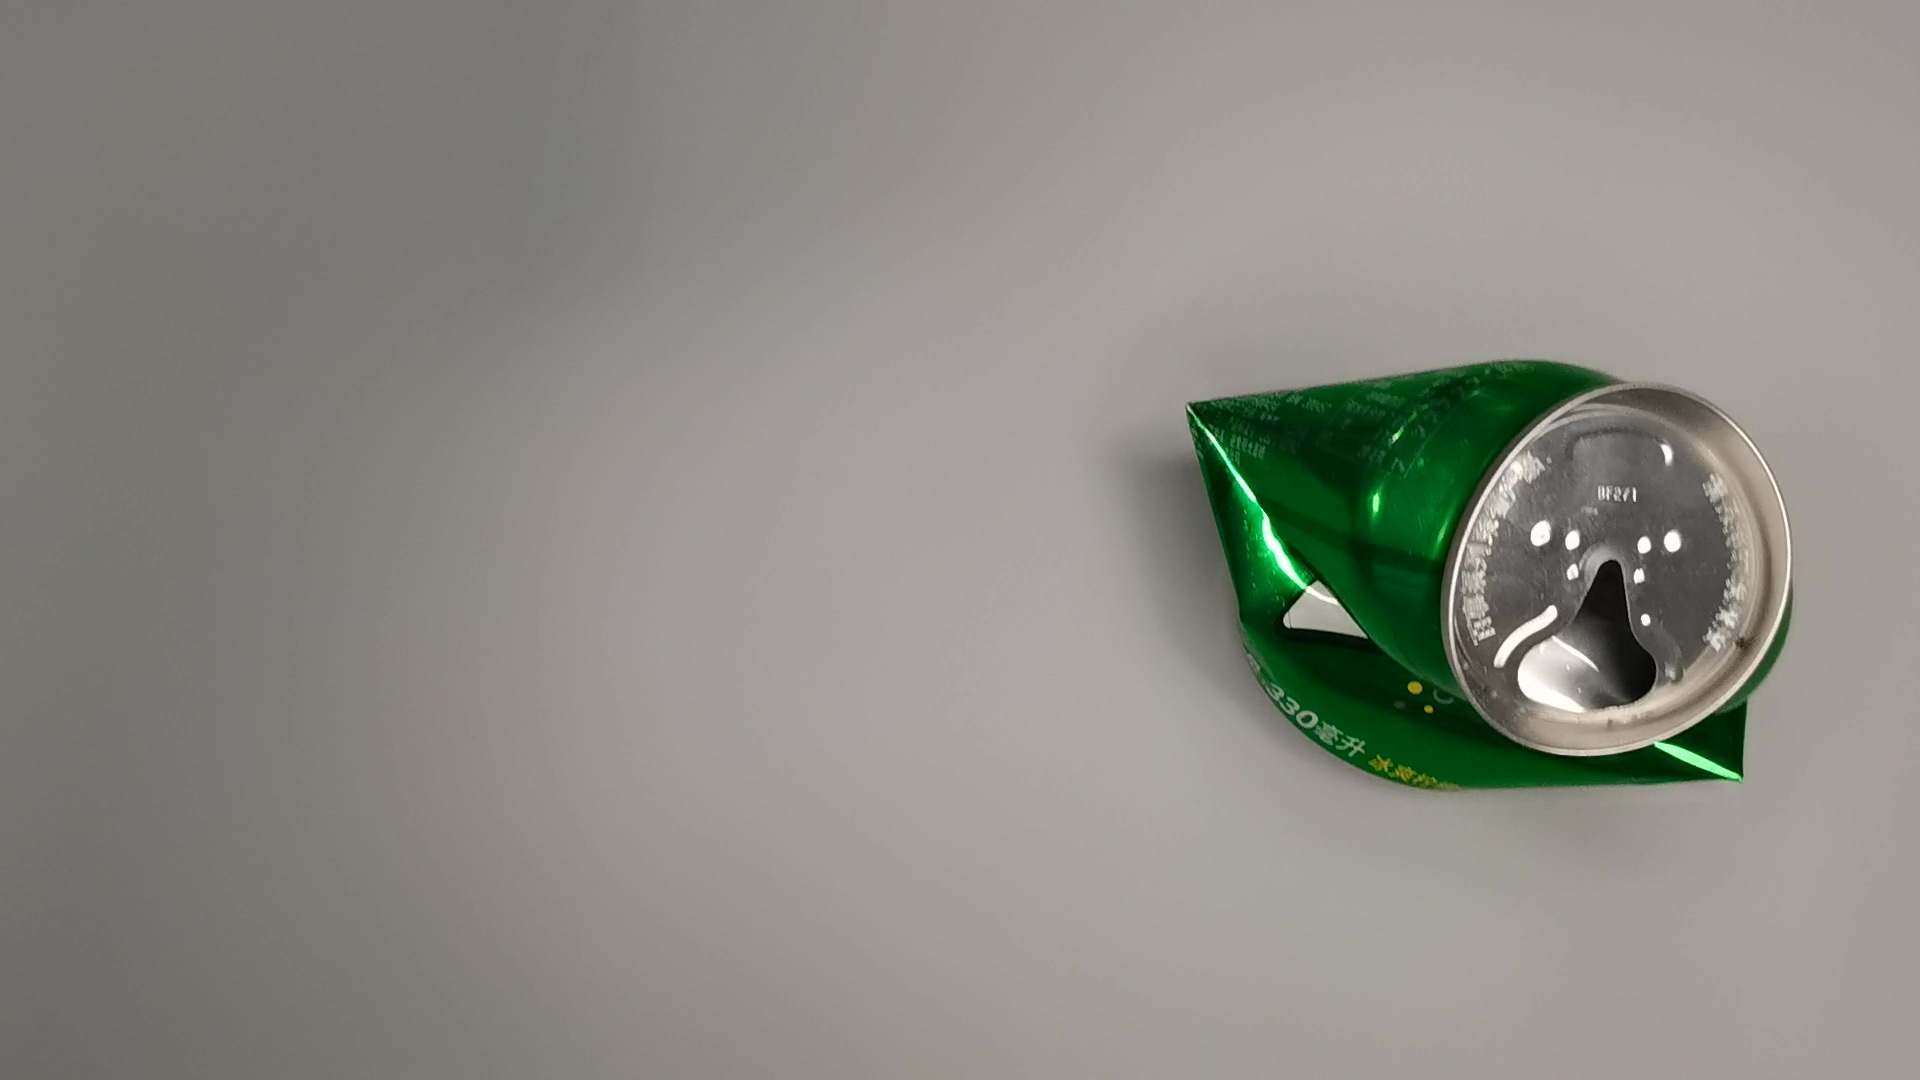can: (1168, 353, 1799, 808)
